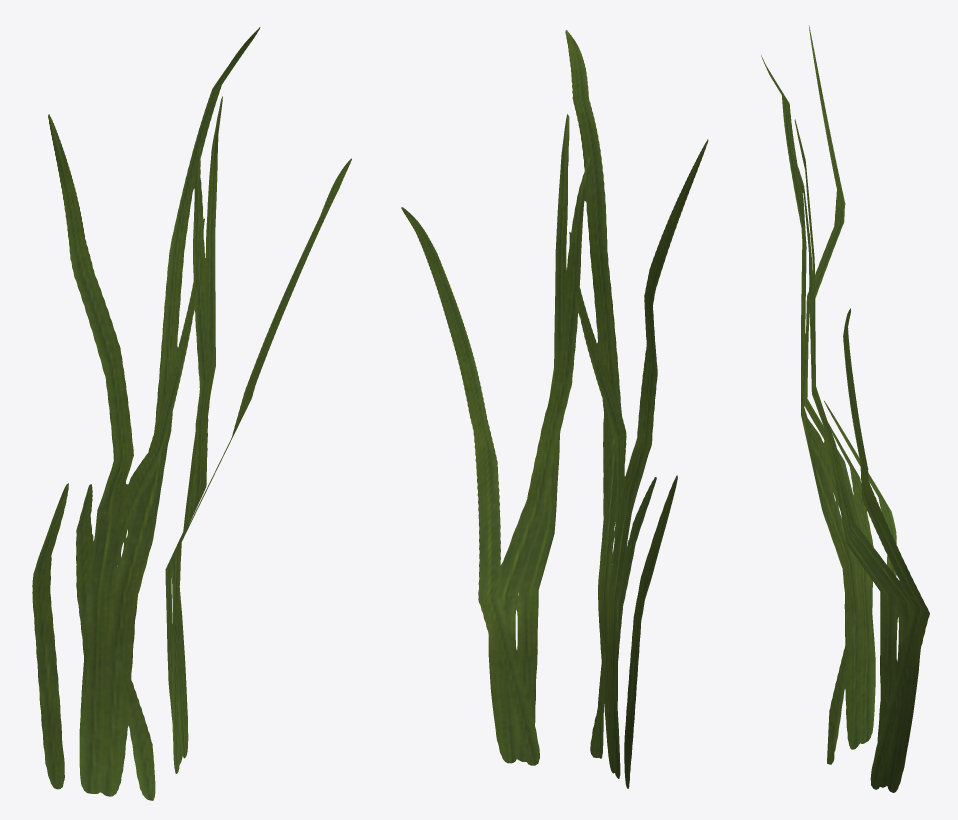
3 renders of one model, left to right at view 1: azimuth 30°, elevation 25°; view 2: azimuth 150°, elevation 25°; view 3: azimuth 270°, elevation 25°, orthographic. The views are drawn at different scales.
Visible parts, largest first — view 1: Posidonia_oceanica.004; view 2: Posidonia_oceanica.004; view 3: Posidonia_oceanica.004.
Boxes of the visible parts, bbox=[...] form: Posidonia_oceanica.004: bbox=[32, 27, 351, 800]; Posidonia_oceanica.004: bbox=[401, 30, 708, 788]; Posidonia_oceanica.004: bbox=[761, 25, 929, 792].
Size of the model in its own units: 0.5182 by 1.14 by 0.2679.
1 material, 1 textured.
